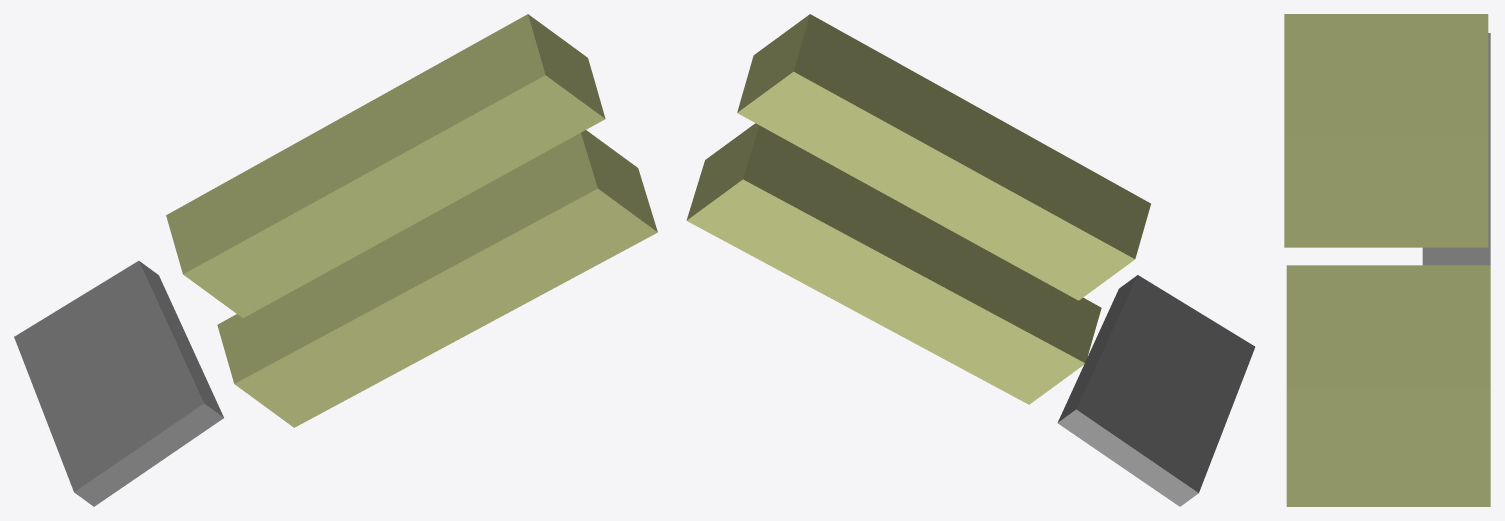
The picture shows the model from 3 angles, left to right: view 1: azimuth 30°, elevation 25°; view 2: azimuth 150°, elevation 25°; view 3: azimuth 270°, elevation 25°; orthographic projection. The views are drawn at different scales.
Parts seen in each view (by area): view 1: 0_3_1_3_3_0_2_3_0; view 2: 0_3_1_3_3_0_2_3_0; view 3: 0_3_1_3_3_0_2_3_0.
Boxes of the visible parts, x1=… form: 0_3_1_3_3_0_2_3_0: x1=14, y1=14, x2=657, y2=506; 0_3_1_3_3_0_2_3_0: x1=686, y1=14, x2=1255, y2=506; 0_3_1_3_3_0_2_3_0: x1=1284, y1=14, x2=1490, y2=506.
Size of the model in its own units: 50.54 by 30.46 by 9.1.
